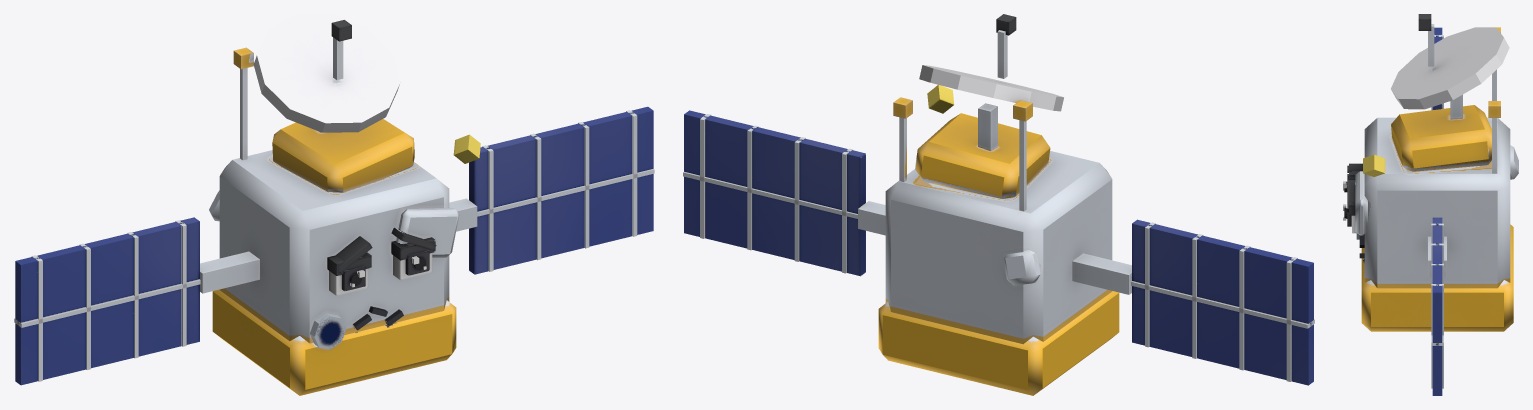
Rendered from SatelliteRonchon_Rig.fbx.
The picture shows the model from 3 angles, left to right: view 1: azimuth 30°, elevation 25°; view 2: azimuth 150°, elevation 25°; view 3: azimuth 270°, elevation 25°; orthographic projection. The views are drawn at different scales.
Parts seen in each view (by area): view 1: Body, PanelR, PanelL, Dish; view 2: Body, PanelR, PanelL, Dish; view 3: Body, Dish, PanelL, PanelR.
Part boxes in pixels (bbox=[...]): Body: bbox=[209, 47, 480, 395]; PanelR: bbox=[14, 217, 259, 385]; PanelL: bbox=[449, 106, 654, 274]; Dish: bbox=[253, 14, 400, 132]; Body: bbox=[878, 85, 1119, 395]; PanelR: bbox=[1072, 219, 1314, 385]; PanelL: bbox=[683, 110, 885, 276]; Dish: bbox=[919, 14, 1063, 151]; Body: bbox=[1343, 27, 1518, 331]; Dish: bbox=[1391, 14, 1509, 119]; PanelL: bbox=[1428, 217, 1446, 395]; PanelR: bbox=[1431, 27, 1443, 110].
Bounding box in the file's own units: 12 × 6 × 3.36.
Materials: 1 (1 with a texture image).
